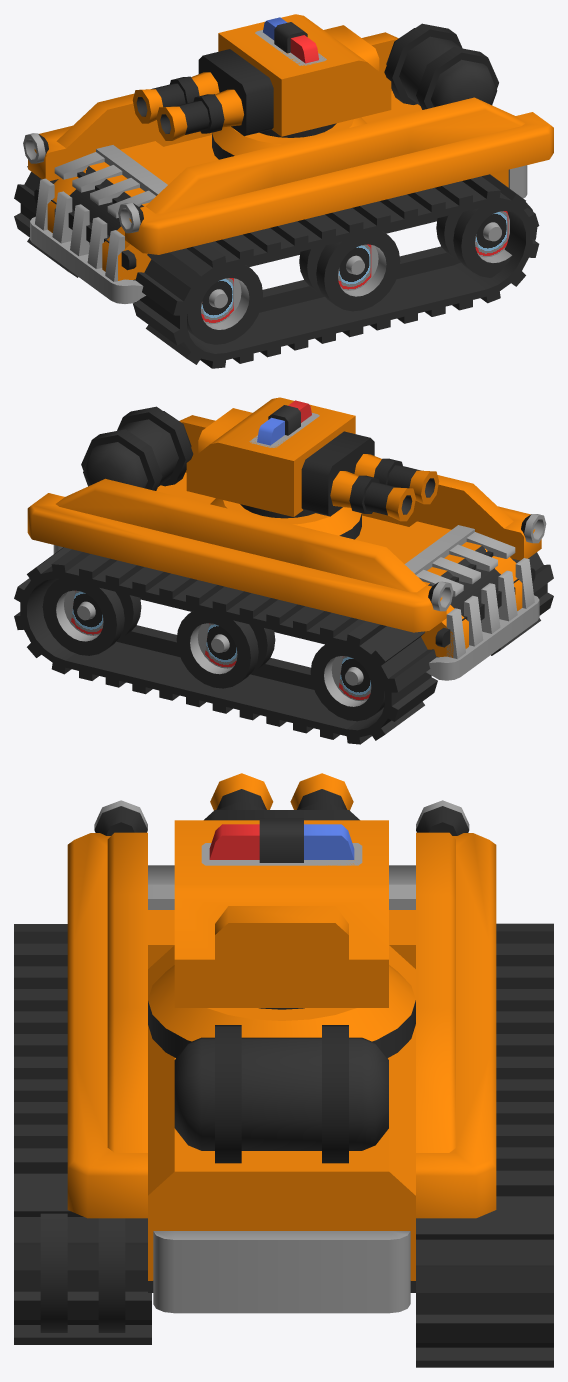
Rendered from tank.glb.
3 renders of one model, top to bottom at view 1: azimuth 30°, elevation 25°; view 2: azimuth 150°, elevation 25°; view 3: azimuth 270°, elevation 25°, orthographic. The views are drawn at different scales.
Visible parts, largest first — view 1: tank_skirtEdge (×4), track_wideSide (×3), wheel_tank (×3), tank_turretBlock, tank_skirt, bumper_grill (×2), track_wideCenter, tank_turretBarrelLargeDouble, detail_tank, body_frontTank, tank_turretRing, body_topBackCargo (×2) (+3 smaller); view 2: tank_skirtEdge (×4), track_wideSide (×3), wheel_tank (×3), tank_turretBlock, tank_skirt, track_wideCenter, bumper_grill (×2), tank_turretBarrelLargeDouble, detail_tank, body_frontTank, tank_turretRing, body_topBackCargo (×2) (+2 smaller); view 3: track_wideSide (×4), tank_skirtEdge (×4), tank_turretBlock, body_topBackCargo (×2), detail_tank, bumper, tank_skirt (×2), track_wideCenter (×2), tank_turretRing, wheel_tank, detail_sirenDouble, tank_turretBarrelLargeDouble (+3 smaller).
Boxes of the visible parts, left/top/right/bottom form: tank_skirtEdge (×4): left=28, top=32, right=553, bottom=254; track_wideSide (×3): left=14, top=166, right=539, bottom=368; wheel_tank (×3): left=187, top=202, right=537, bottom=344; tank_turretBlock: left=218, top=14, right=391, bottom=136; tank_skirt: left=262, top=116, right=422, bottom=223; bumper_grill (×2): left=30, top=145, right=167, bottom=303; track_wideCenter: left=262, top=191, right=438, bottom=348; tank_turretBarrelLargeDouble: left=132, top=49, right=273, bottom=140; detail_tank: left=384, top=23, right=498, bottom=109; body_frontTank: left=47, top=141, right=189, bottom=280; tank_turretRing: left=212, top=117, right=366, bottom=159; body_topBackCargo (×2): left=164, top=91, right=508, bottom=266; tank_skirtEdge (×4): left=27, top=415, right=541, bottom=632; track_wideSide (×3): left=14, top=547, right=553, bottom=744; wheel_tank (×3): left=42, top=578, right=384, bottom=721; tank_turretBlock: left=186, top=397, right=355, bottom=516; tank_skirt: left=155, top=497, right=312, bottom=602; track_wideCenter: left=139, top=570, right=310, bottom=725; bumper_grill (×2): left=404, top=525, right=539, bottom=680; tank_turretBarrelLargeDouble: left=301, top=431, right=439, bottom=521; detail_tank: left=81, top=406, right=193, bottom=490; body_frontTank: left=383, top=521, right=522, bottom=657; tank_turretRing: left=210, top=498, right=361, bottom=539; body_topBackCargo (×2): left=140, top=472, right=408, bottom=644; track_wideSide (×4): left=14, top=923, right=553, bottom=1367; tank_skirtEdge (×4): left=67, top=832, right=496, bottom=1218; tank_turretBlock: left=174, top=820, right=388, bottom=1007; body_topBackCargo (×2): left=148, top=945, right=415, bottom=1292; detail_tank: left=174, top=1025, right=388, bottom=1163; bumper: left=153, top=1231, right=410, bottom=1313; tank_skirt (×2): left=67, top=895, right=496, bottom=1062; track_wideCenter (×2): left=14, top=994, right=553, bottom=1107; tank_turretRing: left=148, top=965, right=415, bottom=1058; wheel_tank: left=40, top=1213, right=125, bottom=1332; detail_sirenDouble: left=201, top=818, right=362, bottom=865; tank_turretBarrelLargeDouble: left=204, top=773, right=359, bottom=820.
Size of the model in its own units: 3.1 by 1.71 by 2.02.
1 material, 1 textured.
